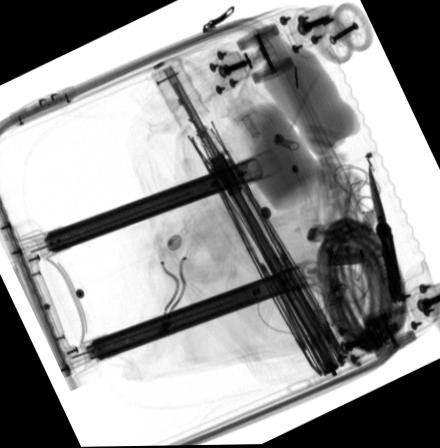Knife: (368, 163, 404, 304)
